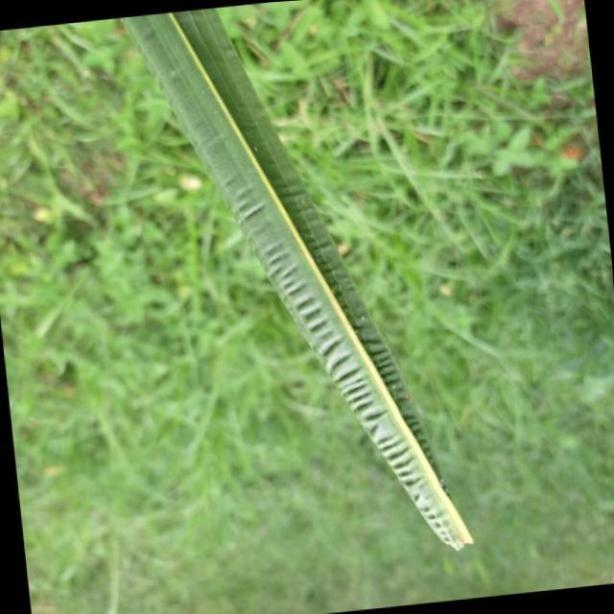Boron: (120, 2, 476, 554)
